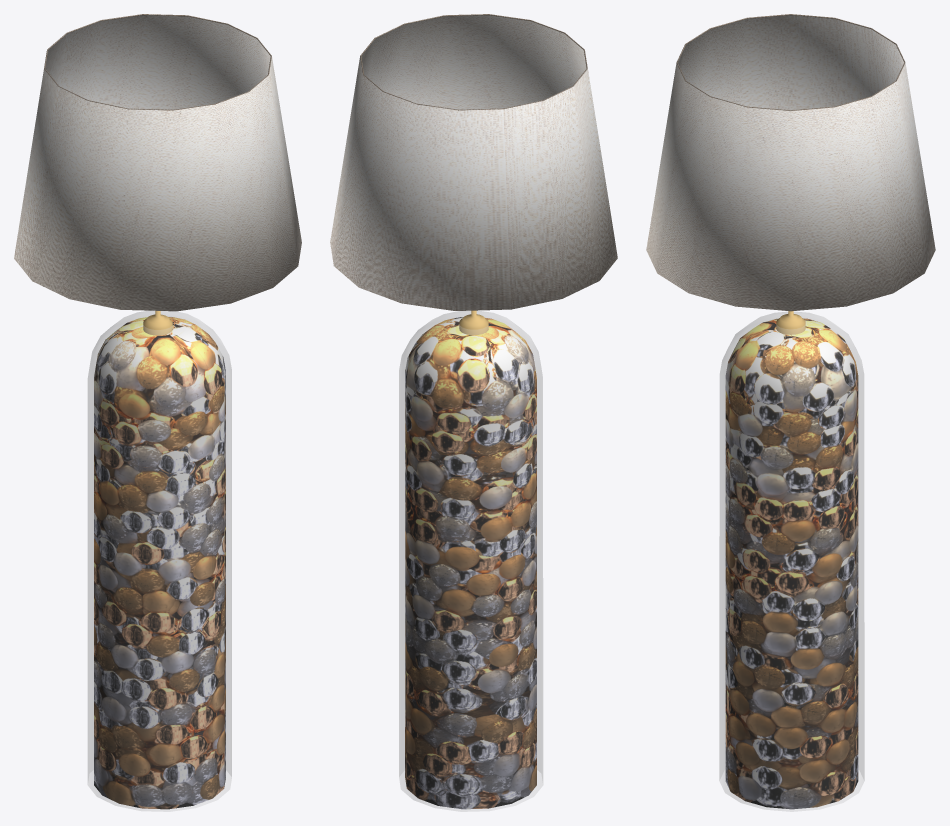
Rendered from torshere.fbx.
3 renders of one model, left to right at view 1: azimuth 30°, elevation 25°; view 2: azimuth 150°, elevation 25°; view 3: azimuth 270°, elevation 25°, orthographic.
Visible parts, largest first — view 1: Cylinder.020; view 2: Cylinder.020; view 3: Cylinder.020.
Part boxes in pixels (x1,y1,x2,y2): Cylinder.020: (14,14,301,811); Cylinder.020: (330,14,617,811); Cylinder.020: (646,14,935,811).
Size of the model in its own units: 91.74 by 251 by 91.74.
